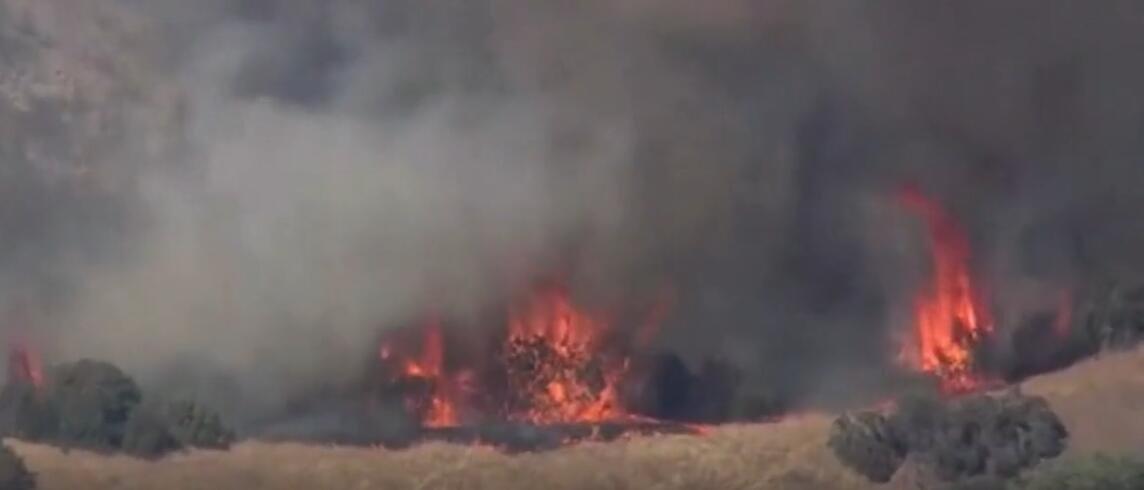fire: (373, 296, 670, 443), (900, 181, 1001, 403)
yanwu: (6, 1, 1140, 407)
